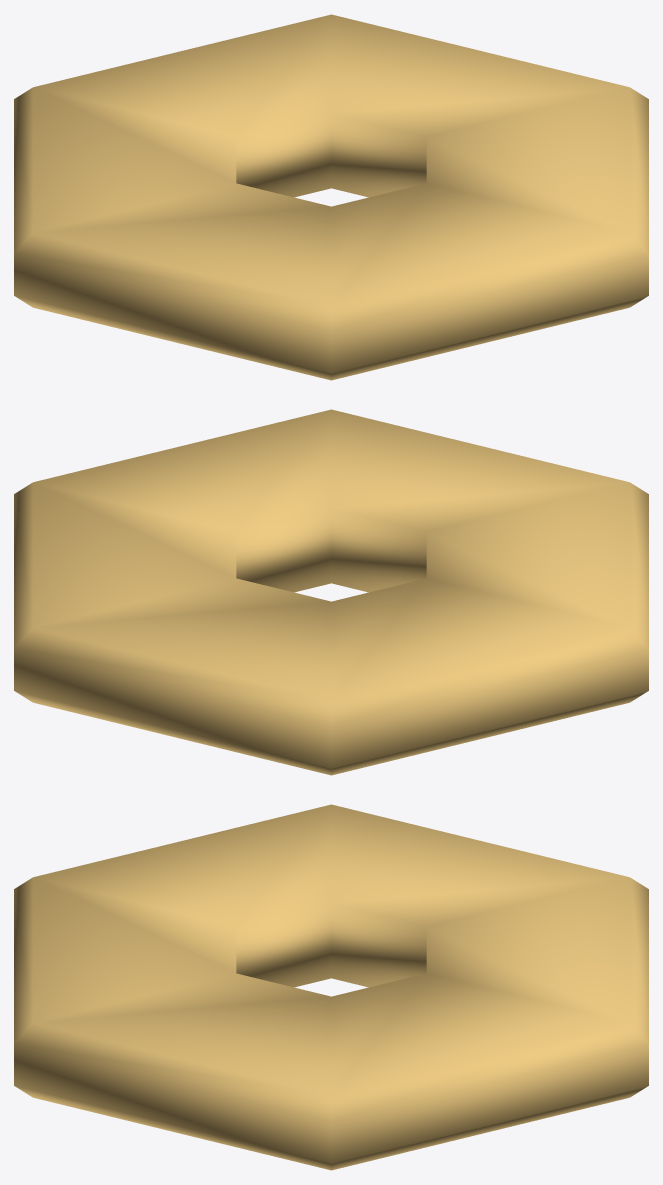
File: spacer-08-gold.glb
3 views of the same model, one above another, from view 1: azimuth 30°, elevation 25°; view 2: azimuth 150°, elevation 25°; view 3: azimuth 270°, elevation 25° (orthographic).
Visible parts, largest first — view 1: Spacer with through bore.012; view 2: Spacer with through bore.012; view 3: Spacer with through bore.012.
Boxes of the visible parts, x1=… form: Spacer with through bore.012: x1=14, y1=14, x2=648, y2=380; Spacer with through bore.012: x1=14, y1=409, x2=648, y2=775; Spacer with through bore.012: x1=14, y1=804, x2=648, y2=1170.
Size of the model in its own units: 0.004 by 0.00045 by 0.00346.
